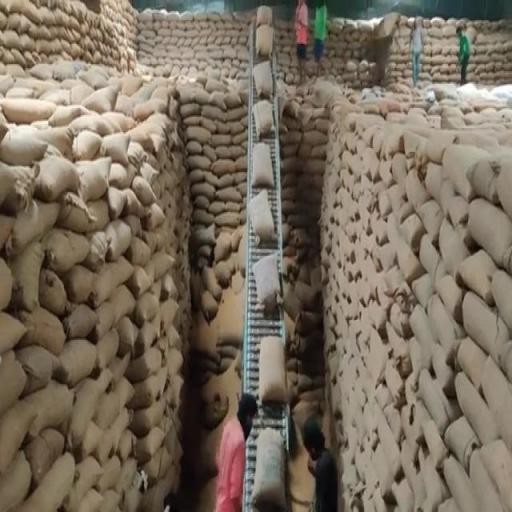c-belt-sack-count: (251, 428, 283, 511), (259, 335, 286, 405), (252, 253, 279, 310), (248, 190, 274, 243), (251, 143, 272, 187), (254, 100, 274, 139)
